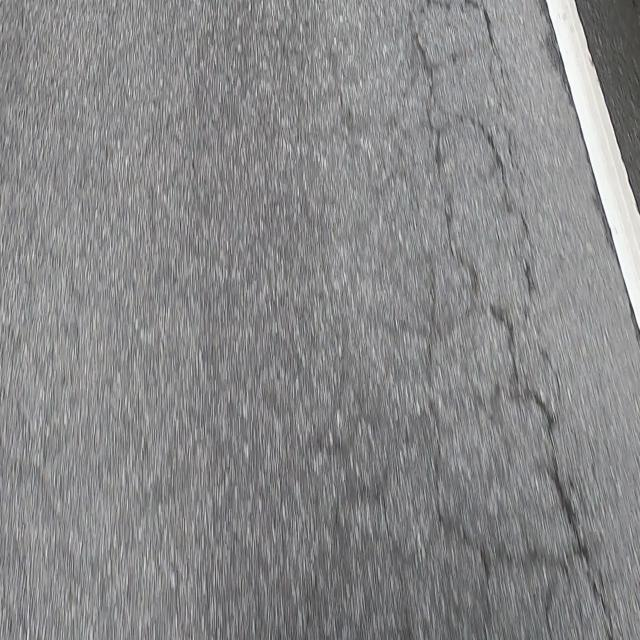Retak-Buaya: (341, 0, 623, 640)
